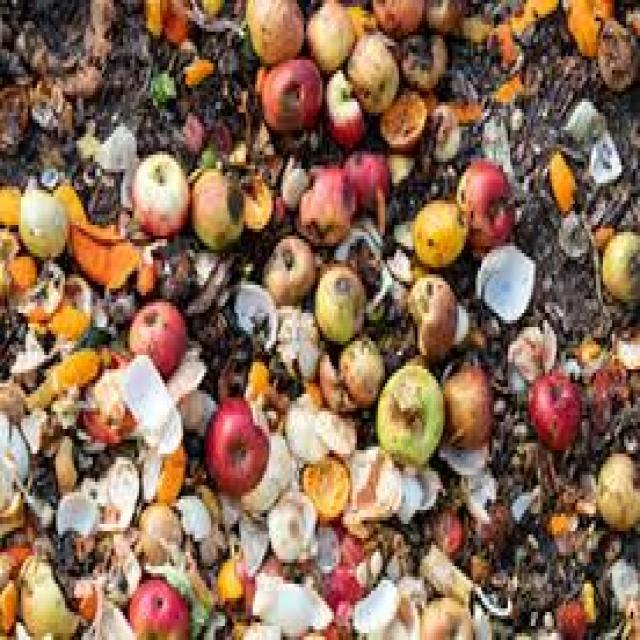Wet: (2, 0, 640, 640), (229, 0, 482, 146), (199, 369, 277, 556), (121, 118, 201, 253)
